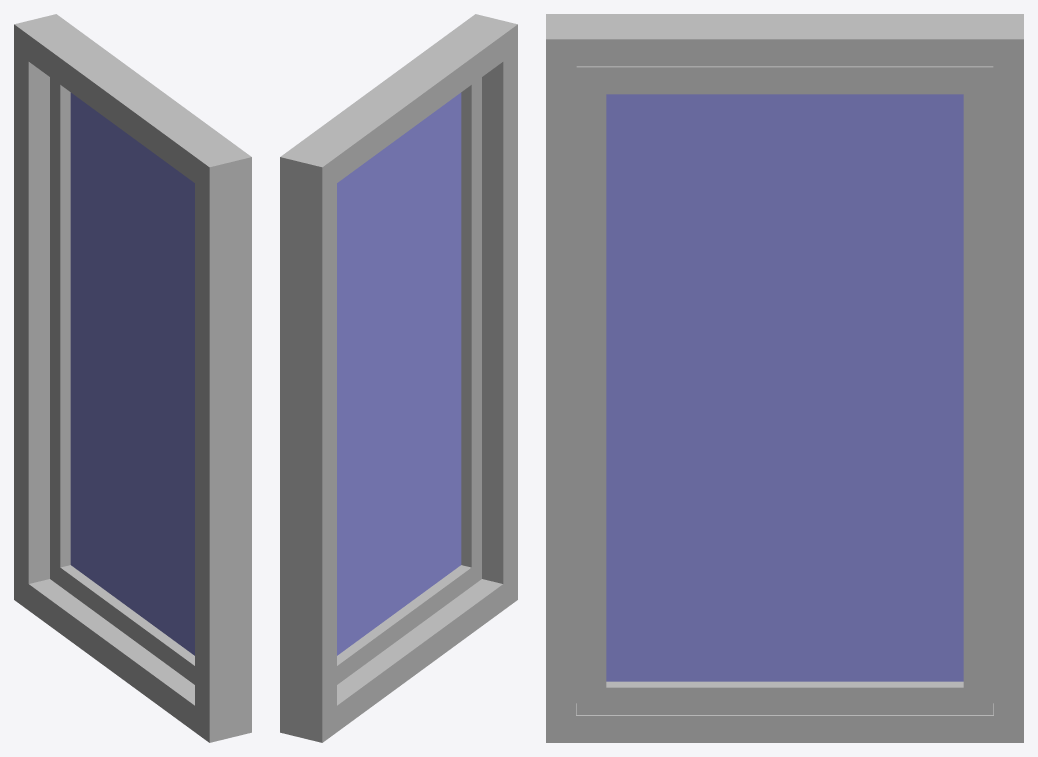
The model's file is TrainStationWindow.fbx.
The picture shows the model from 3 angles, left to right: view 1: azimuth 30°, elevation 25°; view 2: azimuth 150°, elevation 25°; view 3: azimuth 270°, elevation 25°; orthographic projection. The views are drawn at different scales.
Parts seen in each view (by area): view 1: WindowFrame, WindowFrame.001; view 2: WindowFrame, WindowFrame.001; view 3: WindowFrame.001, WindowFrame.
Boxes of the visible parts, <box> form: WindowFrame: <box>14,14,251,742</box>; WindowFrame.001: <box>70,92,194,655</box>; WindowFrame: <box>280,14,517,742</box>; WindowFrame.001: <box>337,92,461,655</box>; WindowFrame.001: <box>606,94,963,681</box>; WindowFrame: <box>546,14,1023,742</box>.
Bounding box in the file's own units: 0.1 × 1.3 × 0.8.
